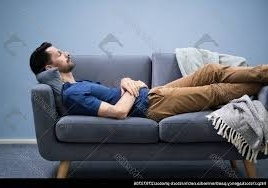fall: (25, 34, 267, 121)
